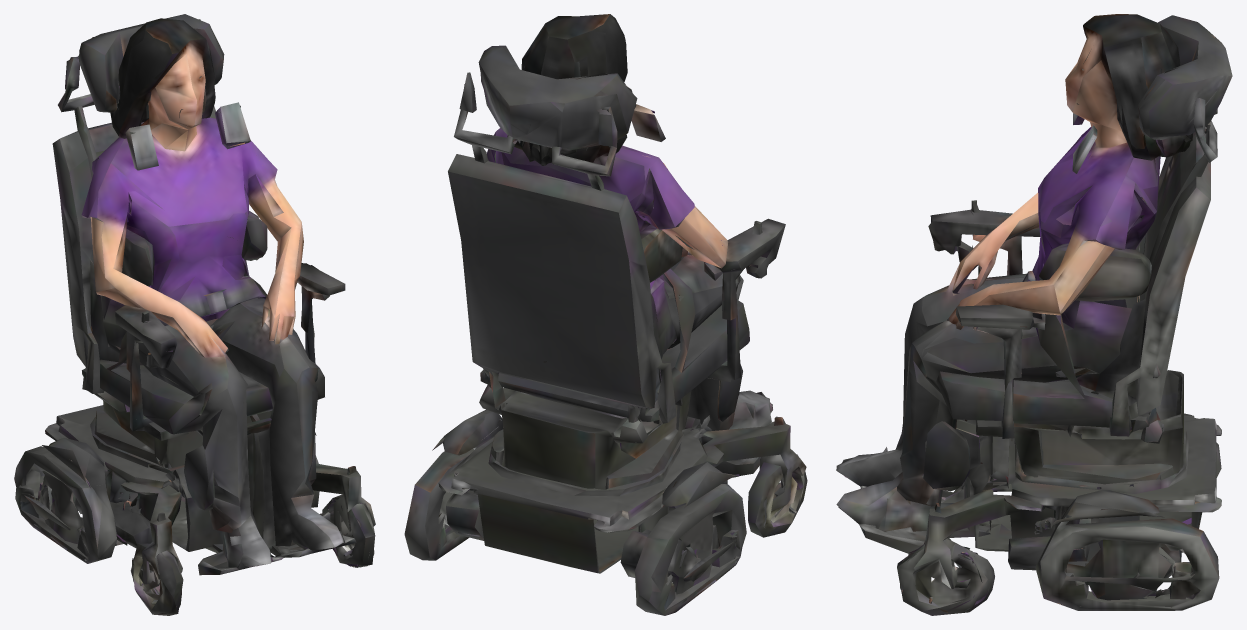
The model's file is person_14.glb.
3 renders of one model, left to right at view 1: azimuth 30°, elevation 25°; view 2: azimuth 150°, elevation 25°; view 3: azimuth 270°, elevation 25°, orthographic. The views are drawn at different scales.
Parts seen in each view (by area): view 1: Human_Rig; view 2: Human_Rig; view 3: Human_Rig.
Part boxes in pixels (x1,y1,x2,y2): Human_Rig: (14,14,375,615); Human_Rig: (404,14,807,615); Human_Rig: (836,14,1232,615).
Size of the model in its own units: 0.6254 by 1.25 by 0.8198.
Materials: 1 (1 with a texture image).
